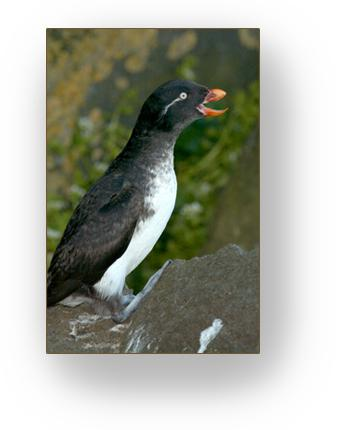007.Parakeet_Auklet: (47, 79, 232, 317)
